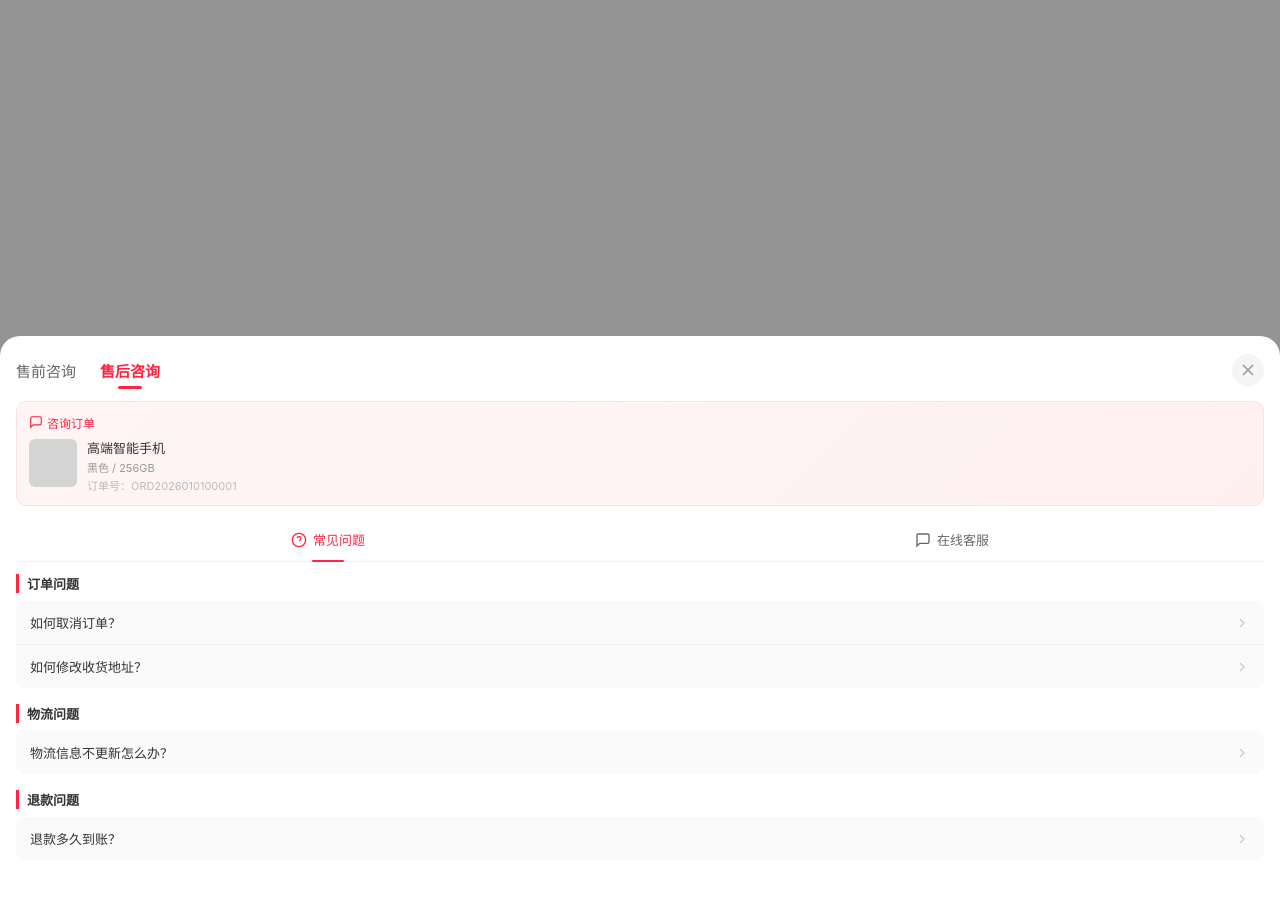
Test: CsServicePanel 联系客服入口 › 聊天模式 › 应正确渲染快捷操作按钮(售后-购买)
The image size is (1280, 900).
Click the element with class "cs-tabs-bar__item" showing "在线客服" at (952, 540), box [915, 532, 989, 548]
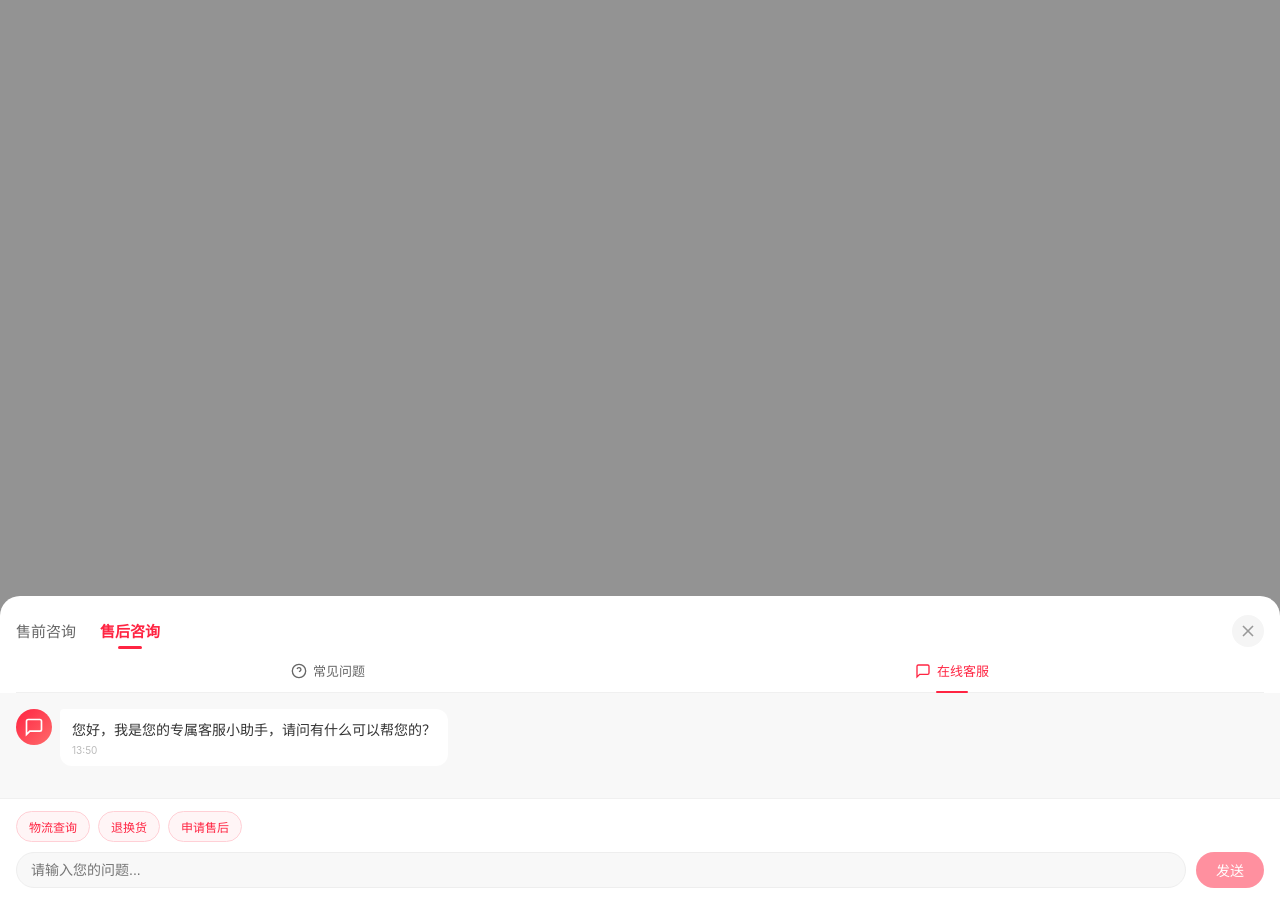
expect the button "物流查询" is shown: met, box [16, 811, 90, 842]
expect the button "退换货" is shown: met, box [98, 811, 160, 842]
expect the button "申请售后" is shown: met, box [168, 811, 242, 842]
